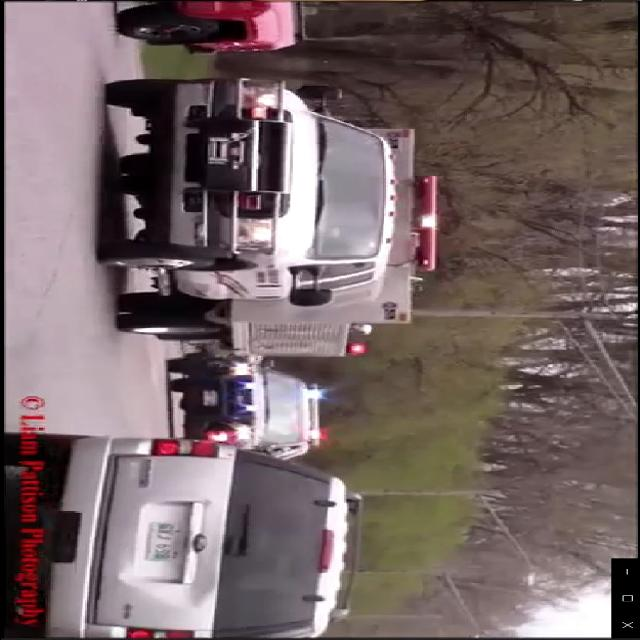emergency: (90, 68, 440, 356), (158, 356, 332, 460)
